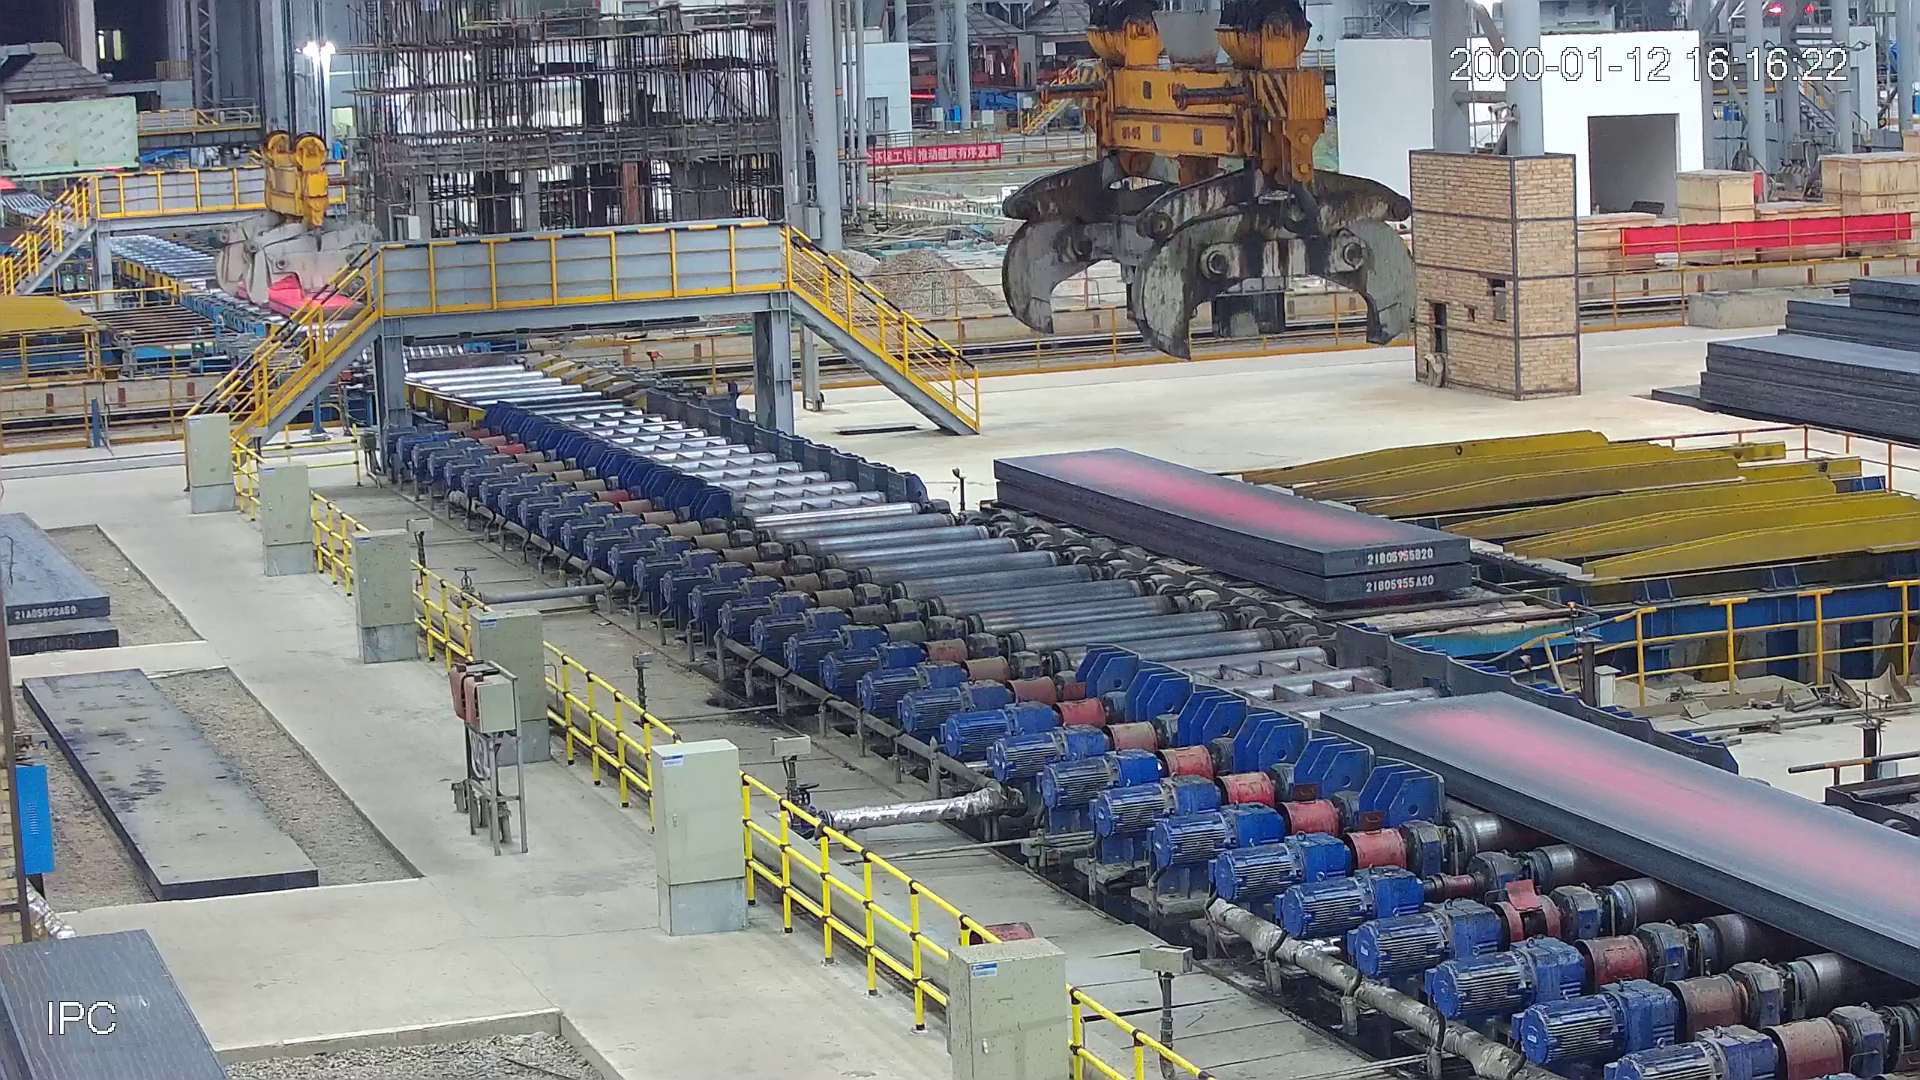crane: (996, 1, 1424, 345)
craneandslab: (218, 128, 384, 324)
slab: (1319, 696, 1920, 978), (989, 448, 1477, 607)
